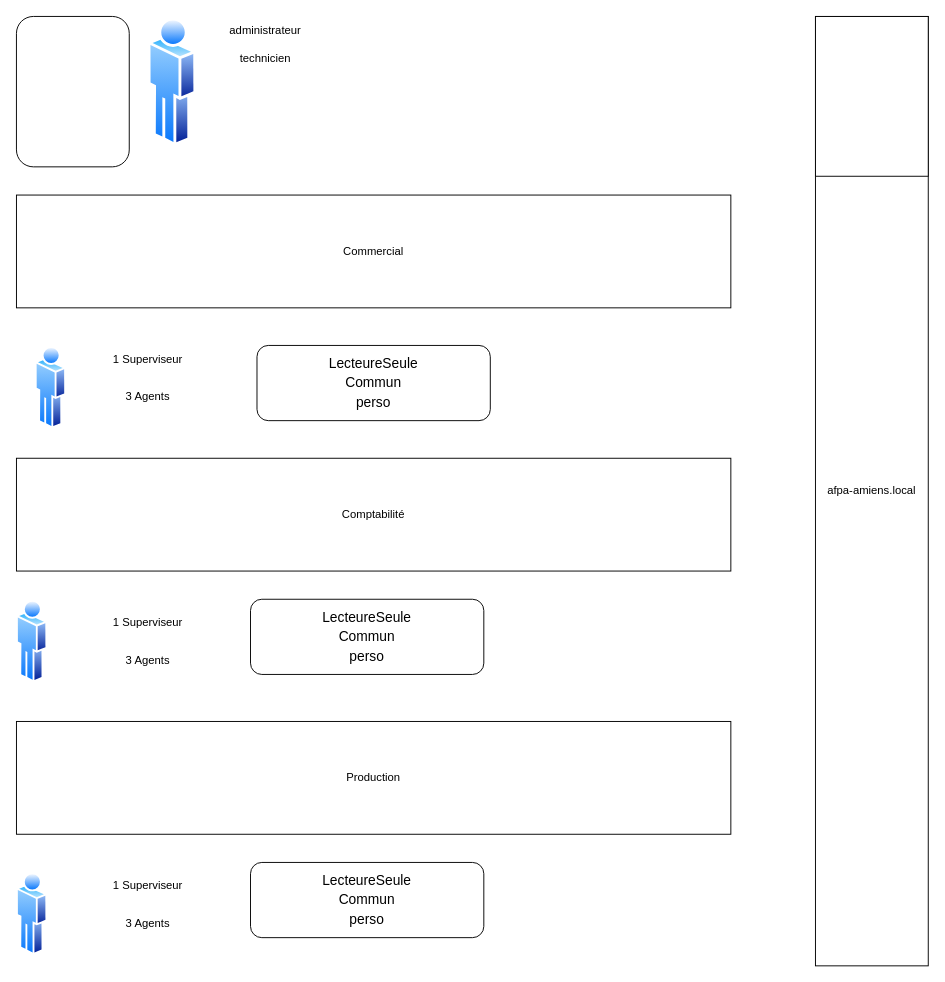
Some shapes in this 945 by 982 pixel diagram are drawn without their labels. Each missing label, with the box of its shape:
DNS: (815, 16, 928, 176)
Informatique: (16, 16, 129, 167)
